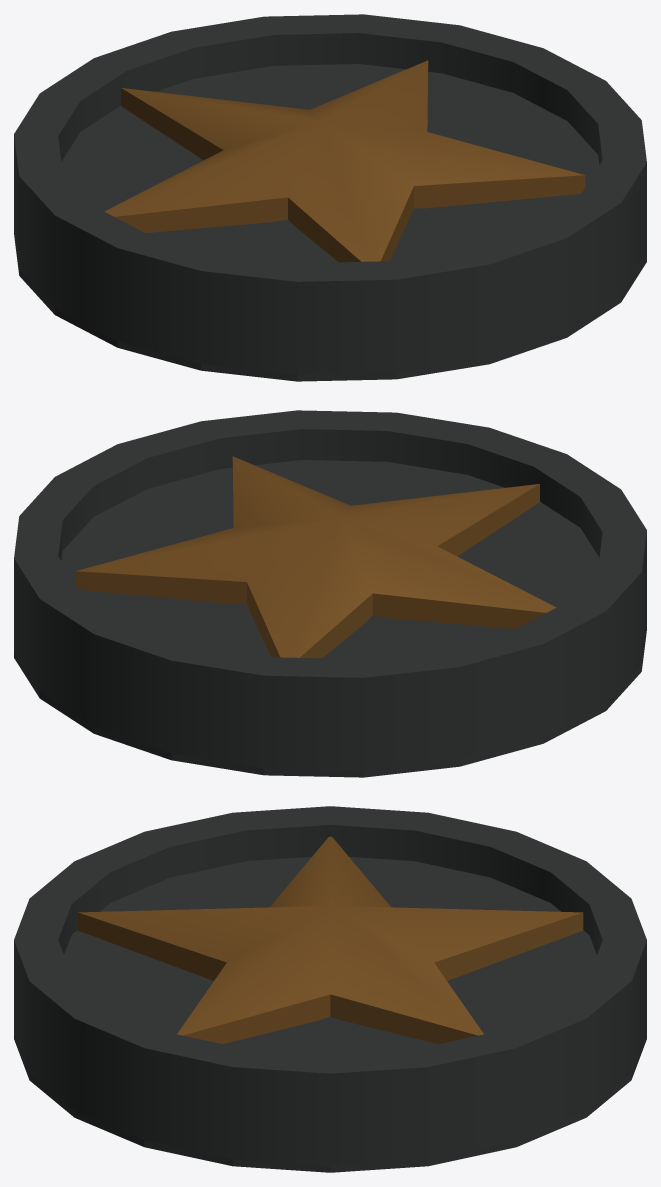
The model's file is invicibility.obj.
3 views of the same model, one above another, from view 1: azimuth 30°, elevation 25°; view 2: azimuth 150°, elevation 25°; view 3: azimuth 270°, elevation 25° (orthographic).
Visible parts, largest first — view 1: pCylinder1, pCylinder2; view 2: pCylinder1, pCylinder2; view 3: pCylinder1, pCylinder2.
Part boxes in pixels (left/top/right/bottom): pCylinder1: left=14, top=14, right=646, bottom=381; pCylinder2: left=104, top=60, right=585, bottom=262; pCylinder1: left=14, top=410, right=646, bottom=777; pCylinder2: left=75, top=456, right=556, bottom=658; pCylinder1: left=14, top=806, right=646, bottom=1172; pCylinder2: left=77, top=836, right=583, bottom=1044.
Size of the model in its own units: 7.16 by 2.12 by 7.16.
